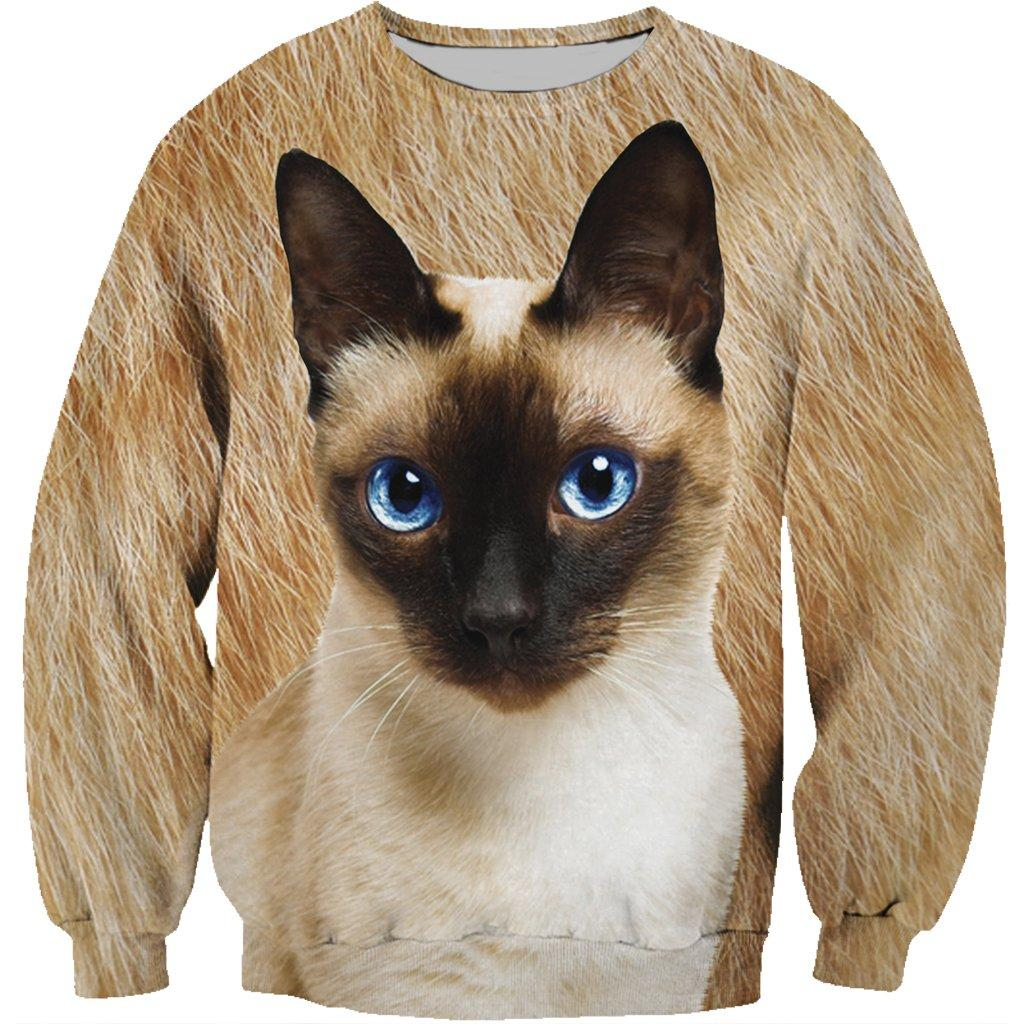siamese: (252, 121, 750, 717)
